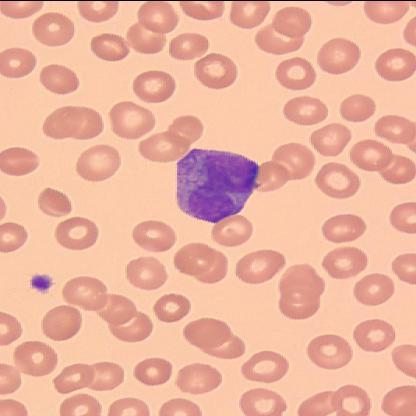Promyelocyte: (174, 147, 262, 223)
